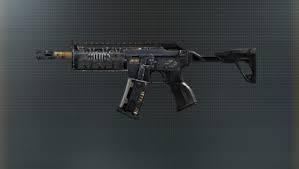rifle: (35, 41, 258, 123)
